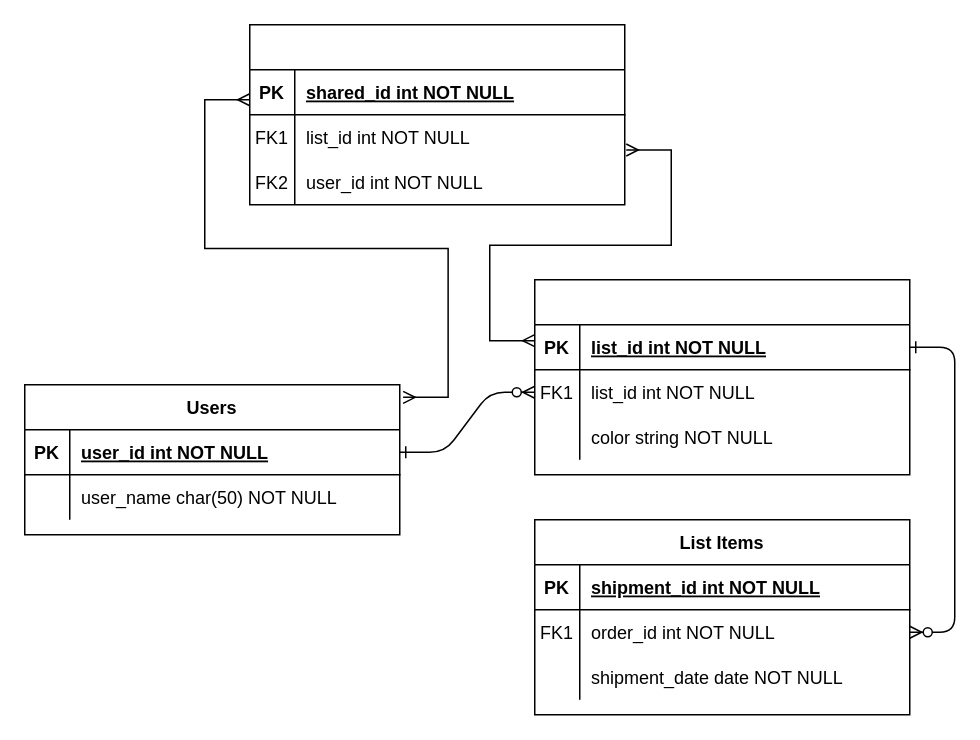
Image size: 980x740. Some labels were removed from this diagram. Each missing label, with the box of its shape:
Lists To Users: (248, 23, 625, 205)
Shopping Lists: (533, 278, 910, 475)
